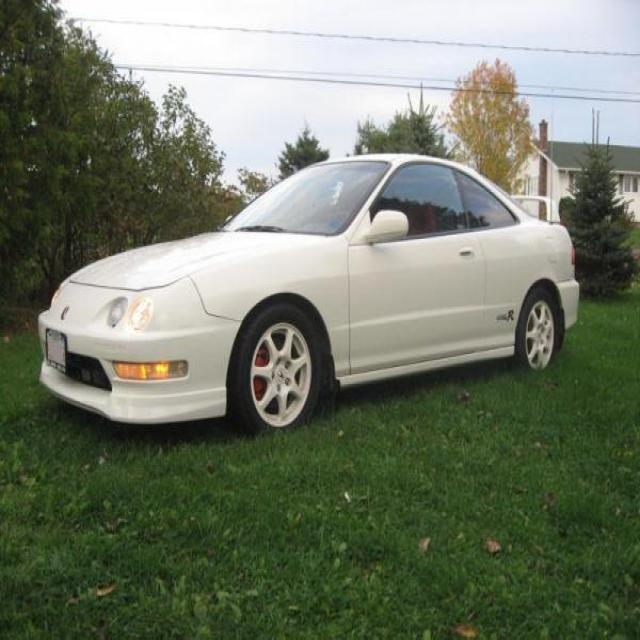car: (38, 92, 580, 436)
